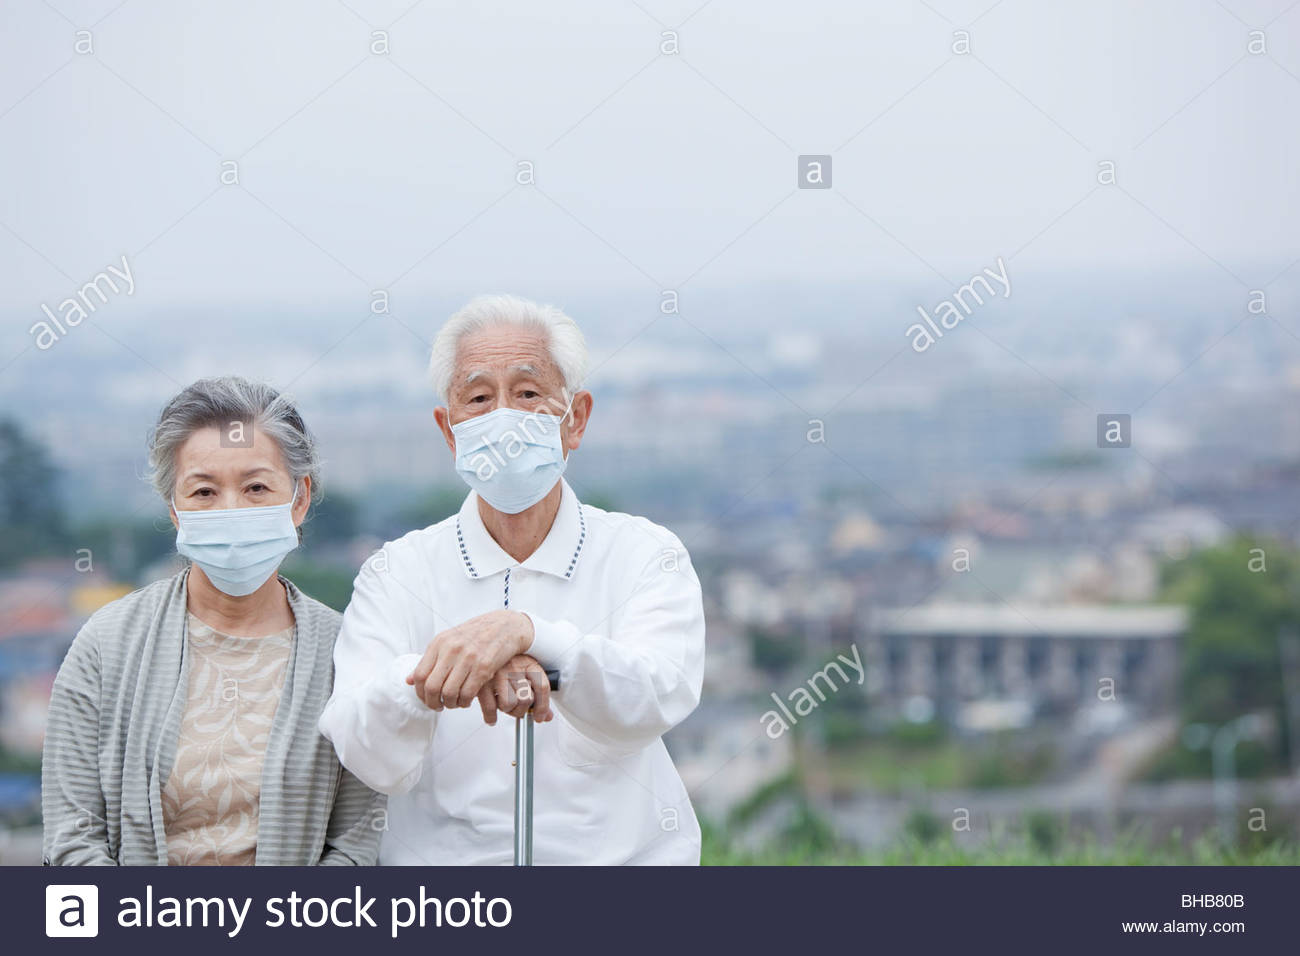mask: (454, 408, 568, 517), (175, 502, 298, 595)
